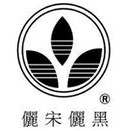adidas Fake: (12, 2, 115, 131)
